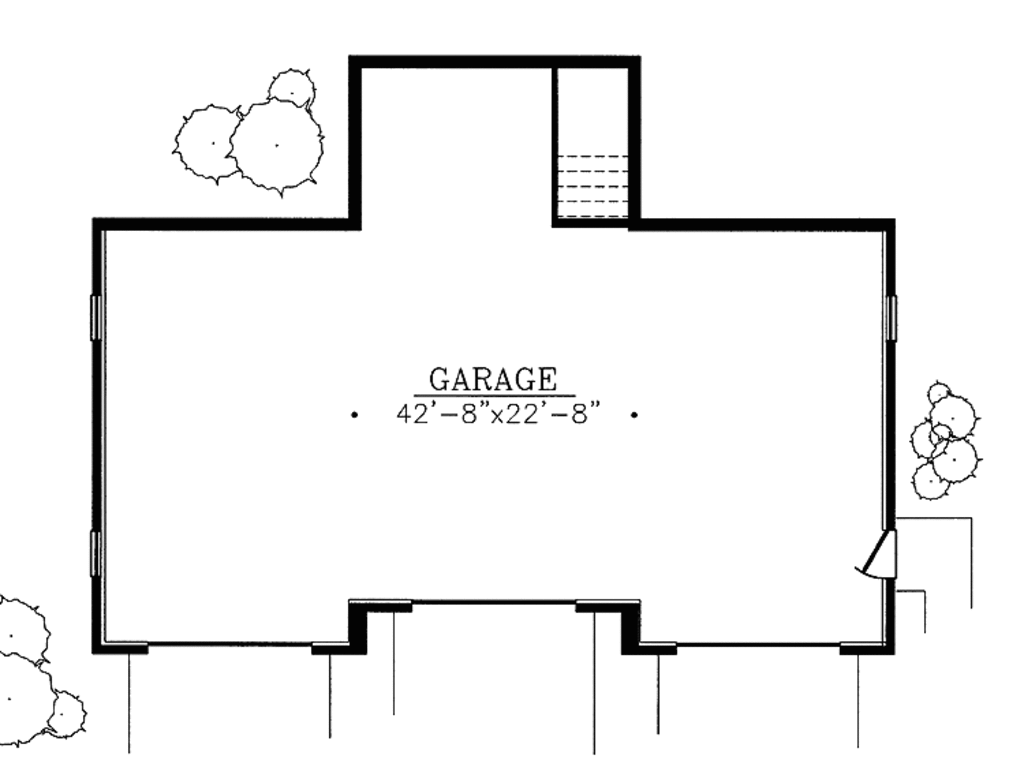door: (849, 528, 903, 583)
window: (876, 292, 900, 351), (85, 534, 102, 577), (90, 296, 105, 334)
